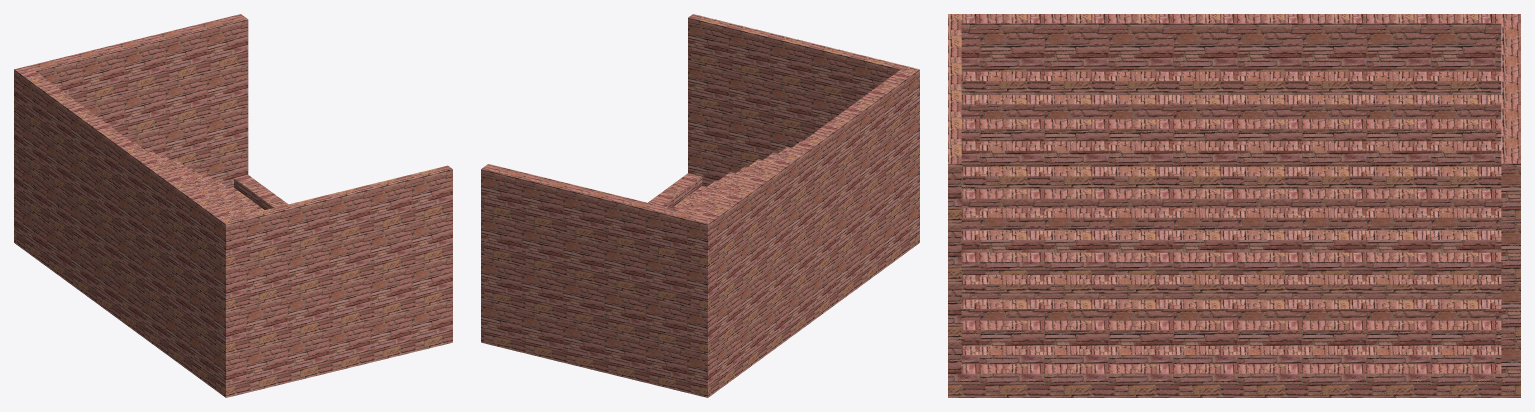
The model's file is Bleachers.dae.
3 renders of one model, left to right at view 1: azimuth 30°, elevation 25°; view 2: azimuth 150°, elevation 25°; view 3: azimuth 270°, elevation 25°, orthographic. The views are drawn at different scales.
Visible parts, largest first — view 1: SketchUp; view 2: SketchUp; view 3: SketchUp.
Boxes of the visible parts, x1,y1,x2,y2 form: SketchUp: [14, 14, 452, 397]; SketchUp: [481, 14, 919, 397]; SketchUp: [948, 14, 1520, 397].
Size of the model in its own units: 432 by 700 by 316.
1 material, 1 textured.
